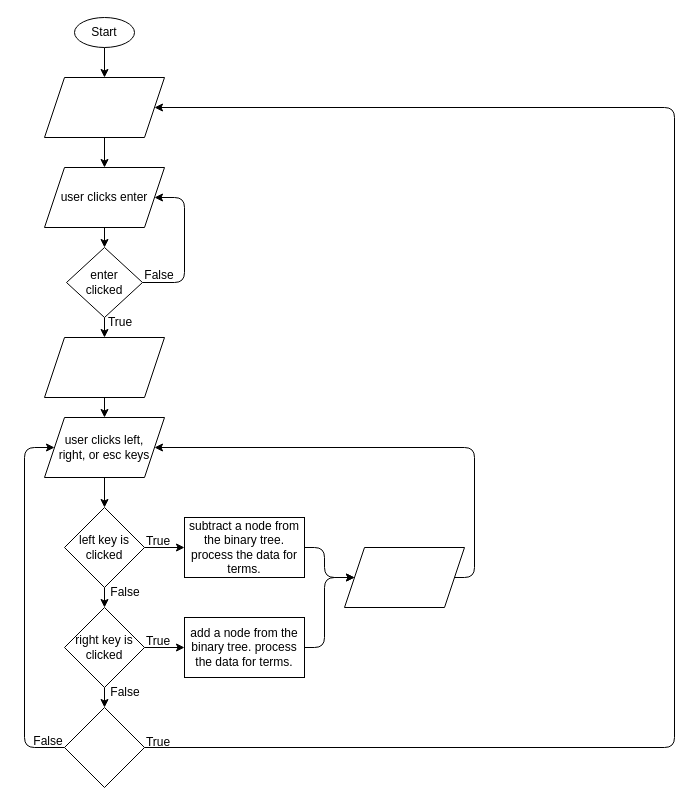
This 700x805 diagram has some shape labels left out. Here are the shapes that lost their labels. From the top down, the box of each, then its label:
(44, 76, 164, 138): Display the main menu
(44, 336, 164, 398): Display the tree with terms using the default 10-node binary tree
(344, 546, 464, 608): Display the tree and the terms
(64, 706, 144, 788): esc key is clicked
